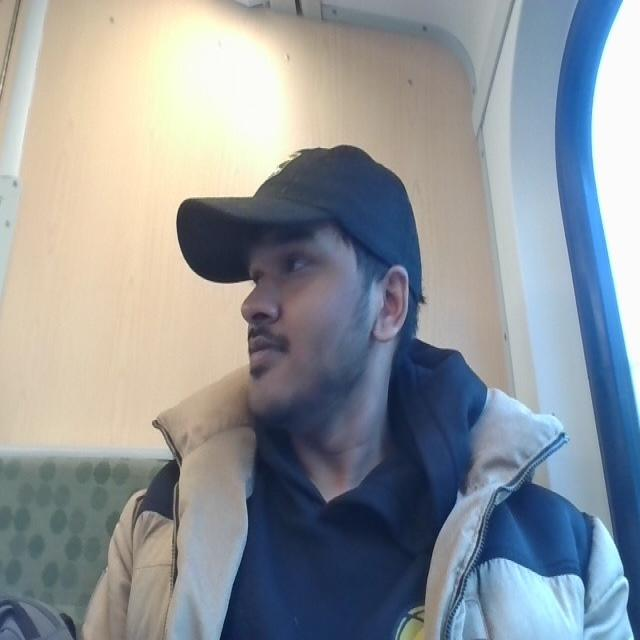hat: (167, 124, 447, 299)
